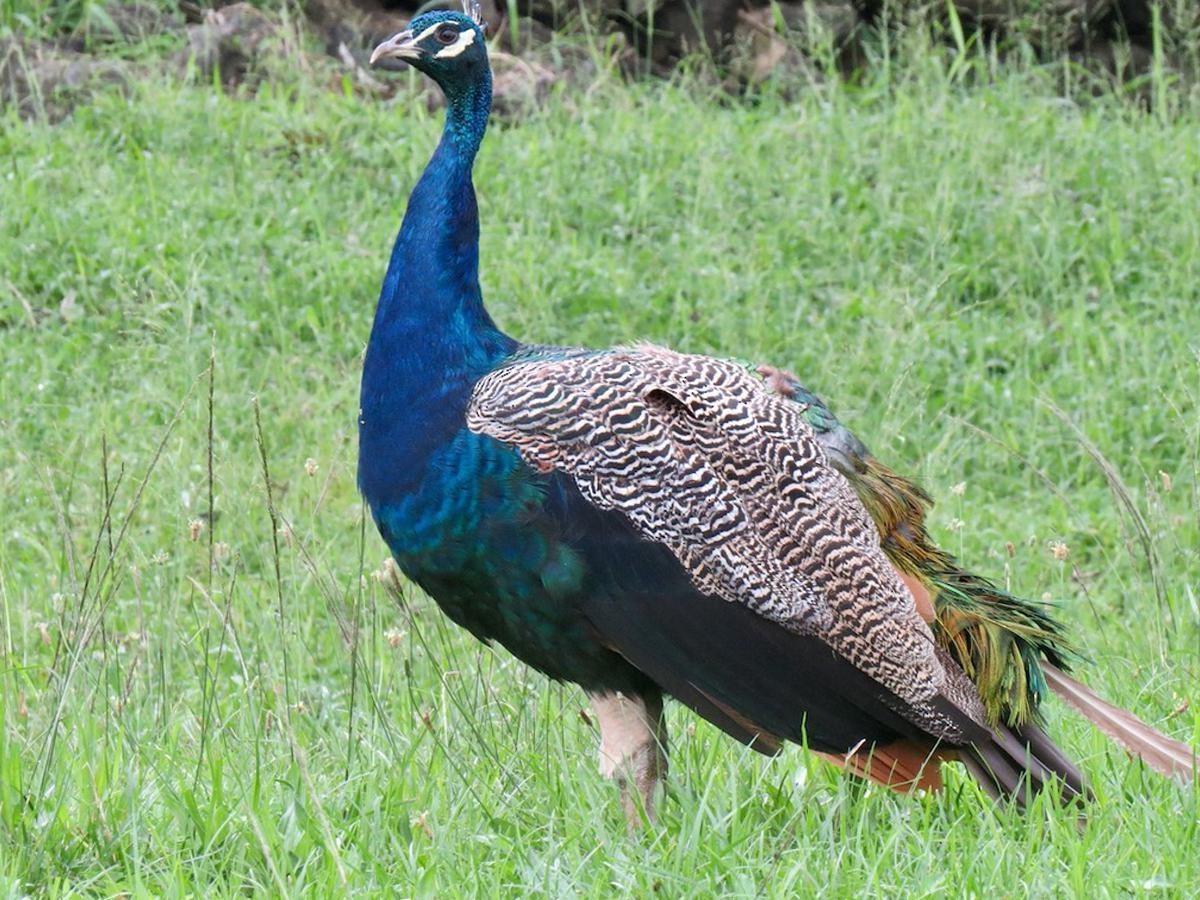peacock: (333, 17, 1015, 816)
